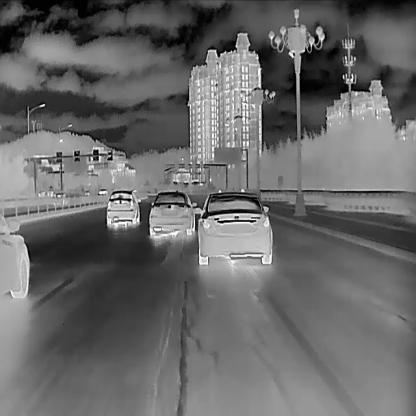car: (193, 191, 273, 265), (0, 210, 29, 299), (148, 189, 197, 236), (106, 189, 141, 227), (52, 192, 68, 206), (95, 188, 108, 197), (46, 185, 53, 197), (38, 190, 45, 198), (84, 189, 90, 195)
